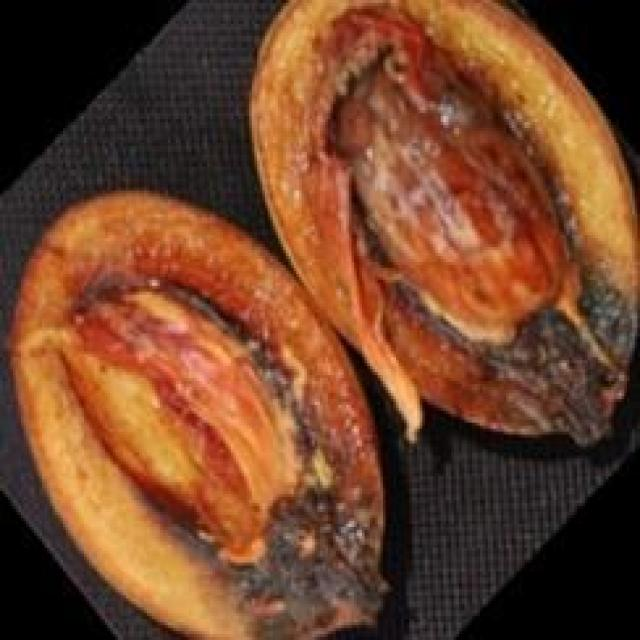damaged: (8, 191, 399, 637), (249, 0, 637, 449)
